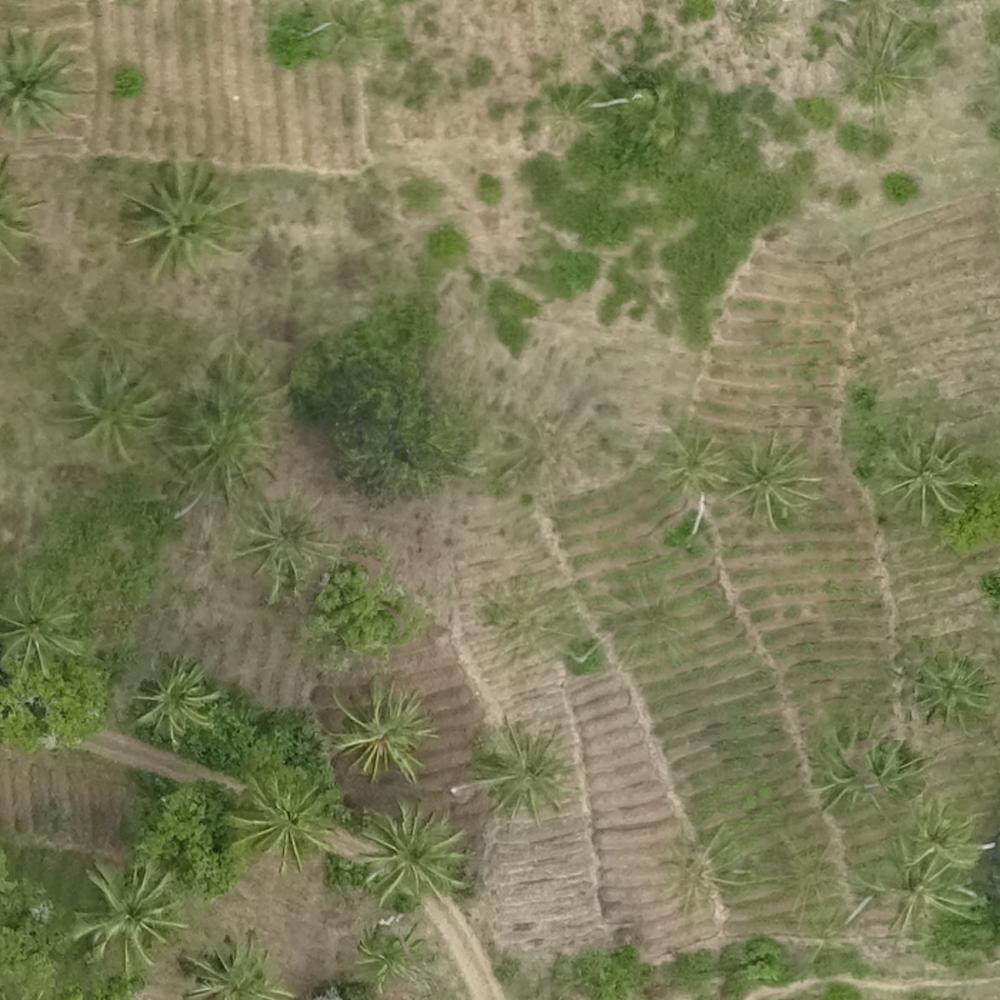Palm: (126, 157, 248, 273), (75, 857, 183, 975), (354, 801, 466, 902), (231, 771, 337, 874), (331, 681, 432, 786), (1, 31, 90, 143), (466, 716, 564, 817), (1, 579, 95, 676), (874, 422, 966, 519), (732, 430, 822, 522), (66, 364, 159, 452), (129, 660, 220, 743), (653, 427, 727, 500)
